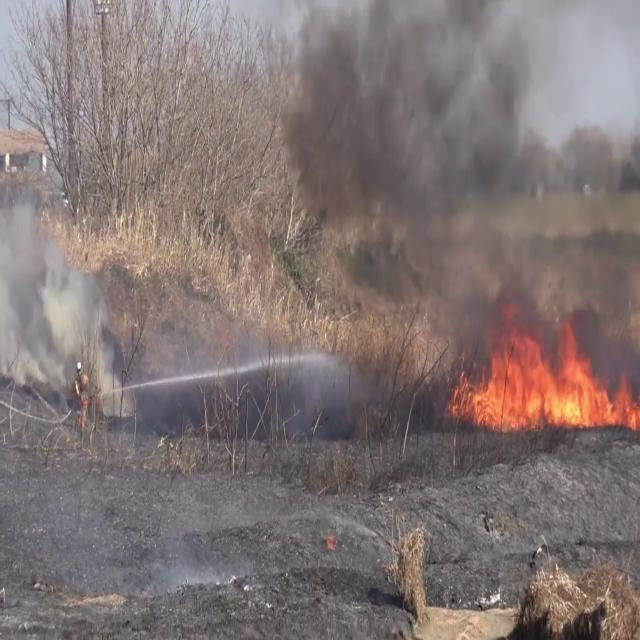Fire: (450, 320, 640, 434)
Smoke: (274, 1, 574, 319), (0, 166, 116, 392)
